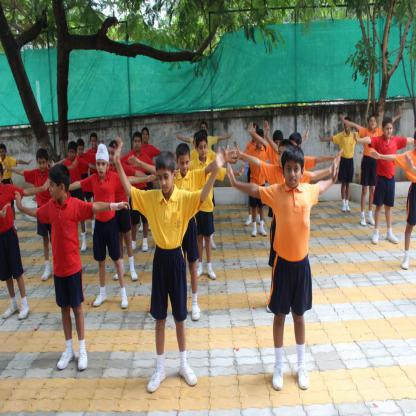face: (285, 160, 302, 188), (158, 169, 173, 194), (50, 179, 62, 203), (279, 146, 290, 168), (179, 155, 191, 175), (97, 161, 108, 178), (198, 141, 208, 158), (39, 158, 48, 173), (110, 147, 117, 164), (276, 139, 284, 153), (385, 125, 393, 138), (134, 137, 141, 151), (70, 149, 77, 161), (370, 118, 377, 129), (201, 124, 208, 135), (257, 136, 263, 148), (1, 148, 7, 160), (78, 146, 85, 156), (252, 130, 258, 141), (143, 131, 149, 142), (195, 138, 201, 149), (92, 138, 98, 149), (345, 120, 350, 131)
